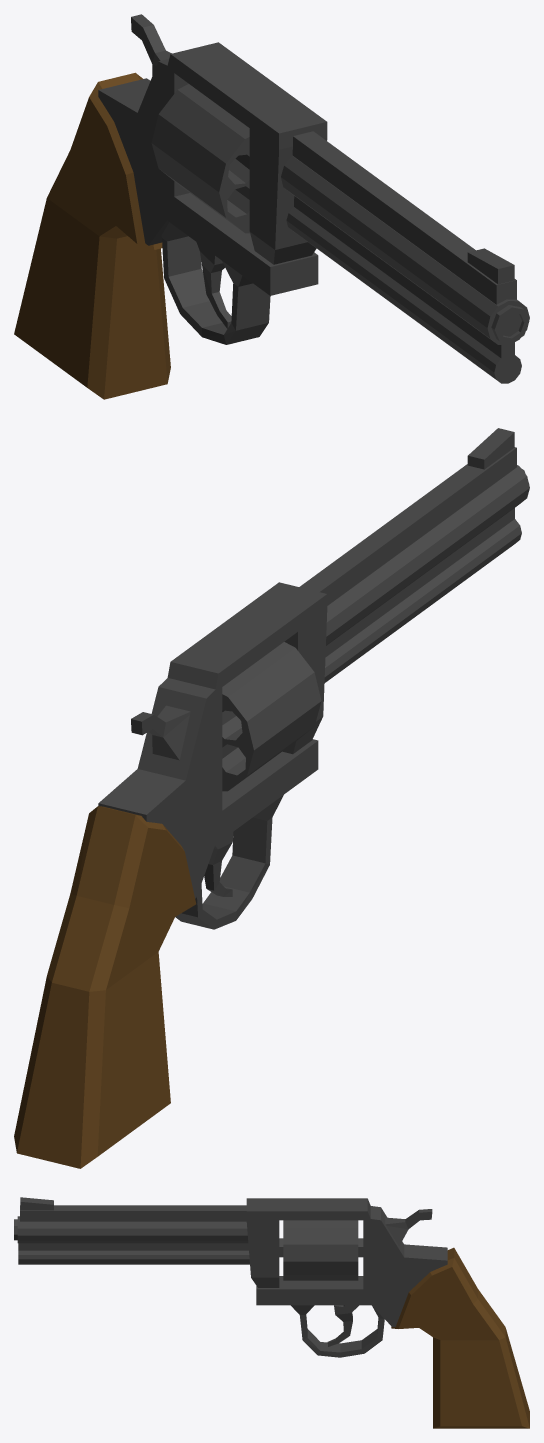
File: Revolver.glb
The picture shows the model from 3 angles, top to bottom: view 1: azimuth 30°, elevation 25°; view 2: azimuth 150°, elevation 25°; view 3: azimuth 270°, elevation 25°; orthographic projection. The views are drawn at different scales.
Visible parts, largest first — view 1: Revolver_02_Cube; view 2: Revolver_02_Cube; view 3: Revolver_02_Cube.
Part boxes in pixels (x1,y1,x2,y2): Revolver_02_Cube: (14, 14, 529, 399); Revolver_02_Cube: (14, 428, 529, 1168); Revolver_02_Cube: (14, 1197, 529, 1428).
Size of the model in its own units: 0.6363 by 2.32 by 4.92.
